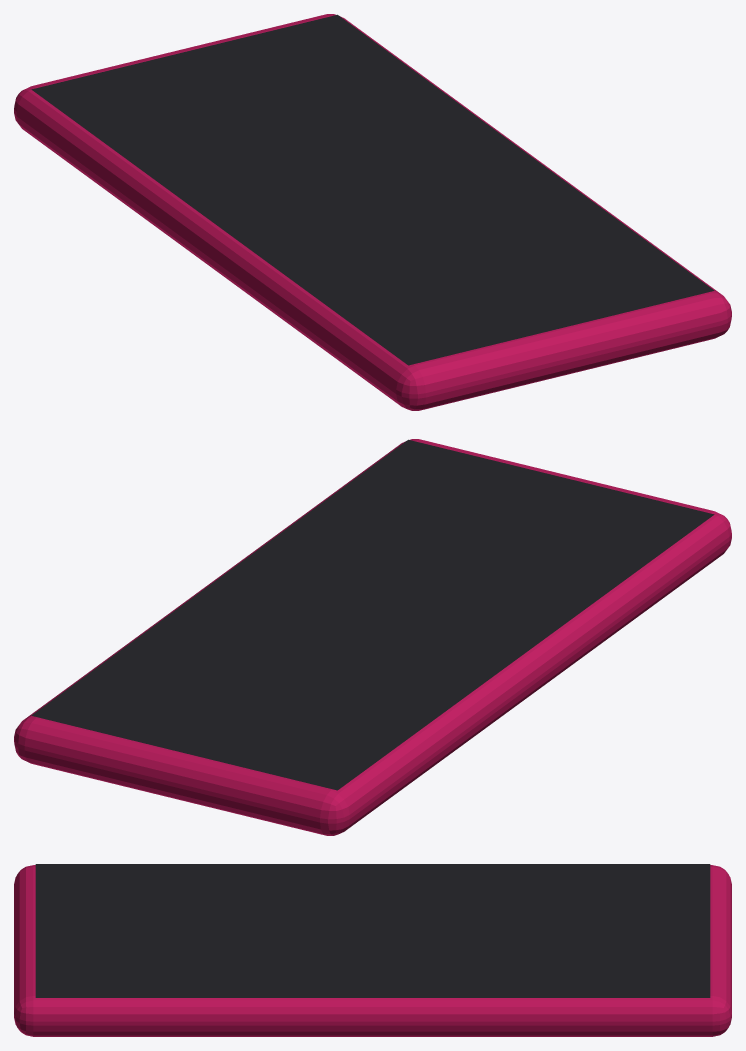
The model's file is Phone_781.glb.
The picture shows the model from 3 angles, top to bottom: view 1: azimuth 30°, elevation 25°; view 2: azimuth 150°, elevation 25°; view 3: azimuth 270°, elevation 25°; orthographic projection. The views are drawn at different scales.
Visible parts, largest first — view 1: Phone_Screen, Phone_Body; view 2: Phone_Screen, Phone_Body; view 3: Phone_Screen, Phone_Body.
Boxes of the visible parts, x1,y1,x2,y2 form: Phone_Screen: (31, 14, 714, 365); Phone_Body: (14, 14, 731, 410); Phone_Screen: (31, 439, 714, 790); Phone_Body: (14, 439, 731, 835); Phone_Screen: (35, 864, 710, 997); Phone_Body: (14, 865, 731, 1036).
Size of the model in its own units: 0.074 by 0.0094 by 0.1544.
